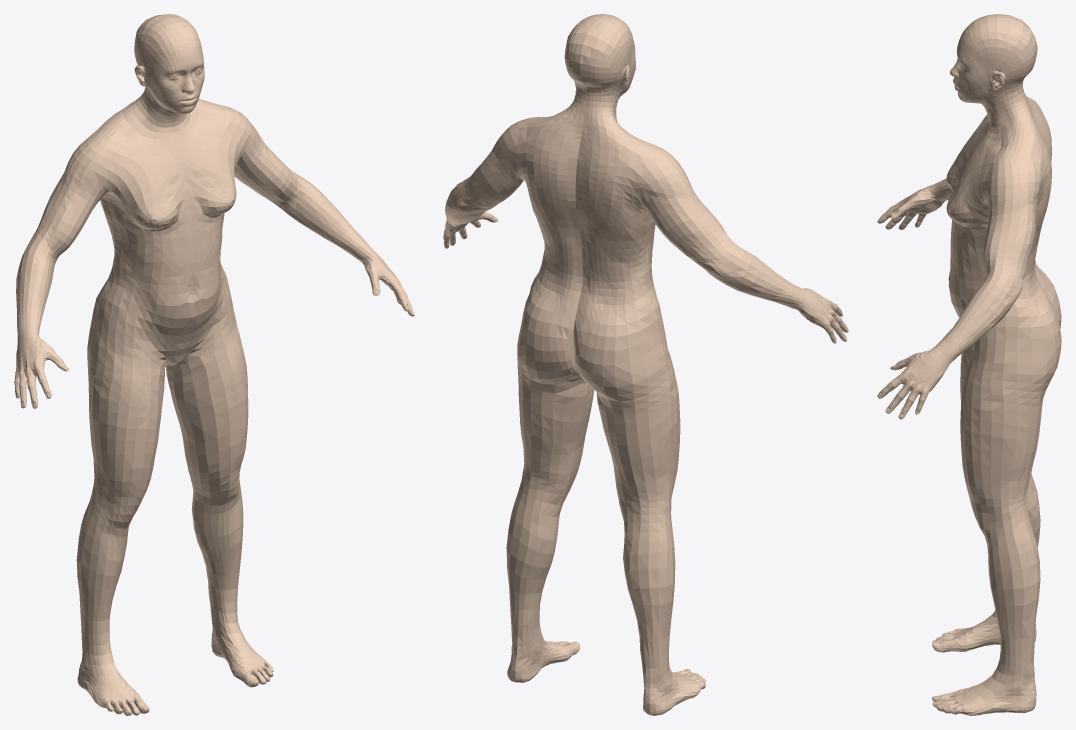
The model's file is female-adult-max-strong.glb.
3 renders of one model, left to right at view 1: azimuth 30°, elevation 25°; view 2: azimuth 150°, elevation 25°; view 3: azimuth 270°, elevation 25°, orthographic.
Visible parts, largest first — view 1: world; view 2: world; view 3: world.
Part boxes in pixels (x1=…): world: x1=14, y1=14, x2=414, y2=715; world: x1=443, y1=14, x2=848, y2=715; world: x1=877, y1=14, x2=1061, y2=715.
Size of the model in its own units: 1.13 by 1.82 by 0.4602.
